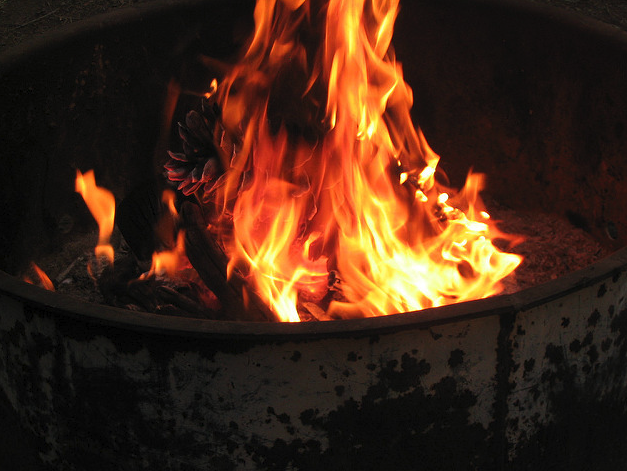fire: (139, 18, 520, 300)
